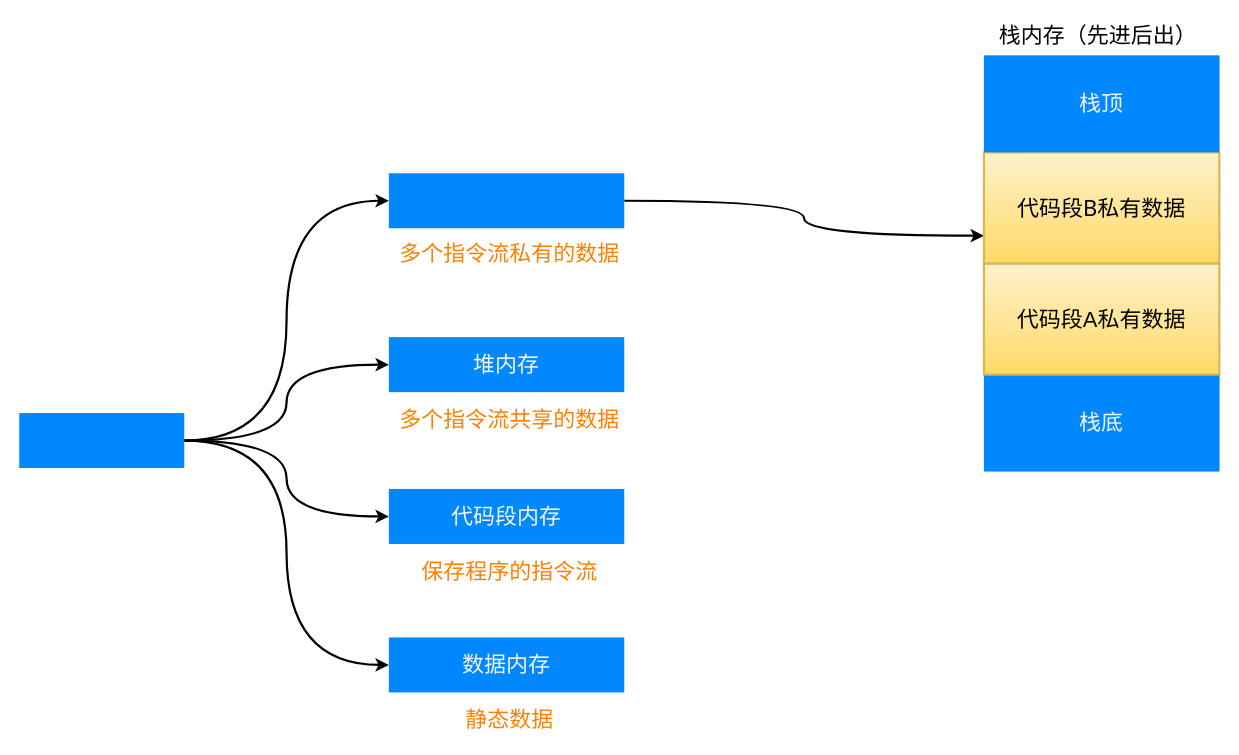
The diagram is 1239 pixels wide and 755 high, and some of its shapes have lost their labels. Each missing label, with the box of its shape:
栈内存: (388, 173, 624, 228)
程序: (19, 413, 184, 468)
